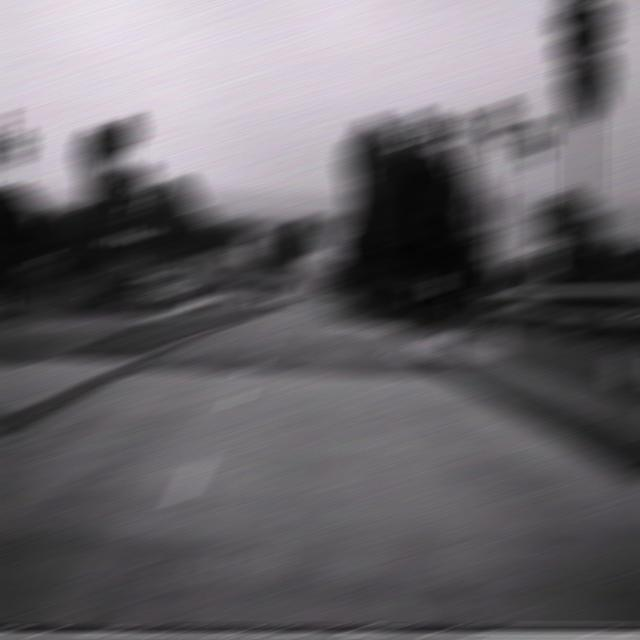pedestrianCrossing: (458, 180, 500, 239)
